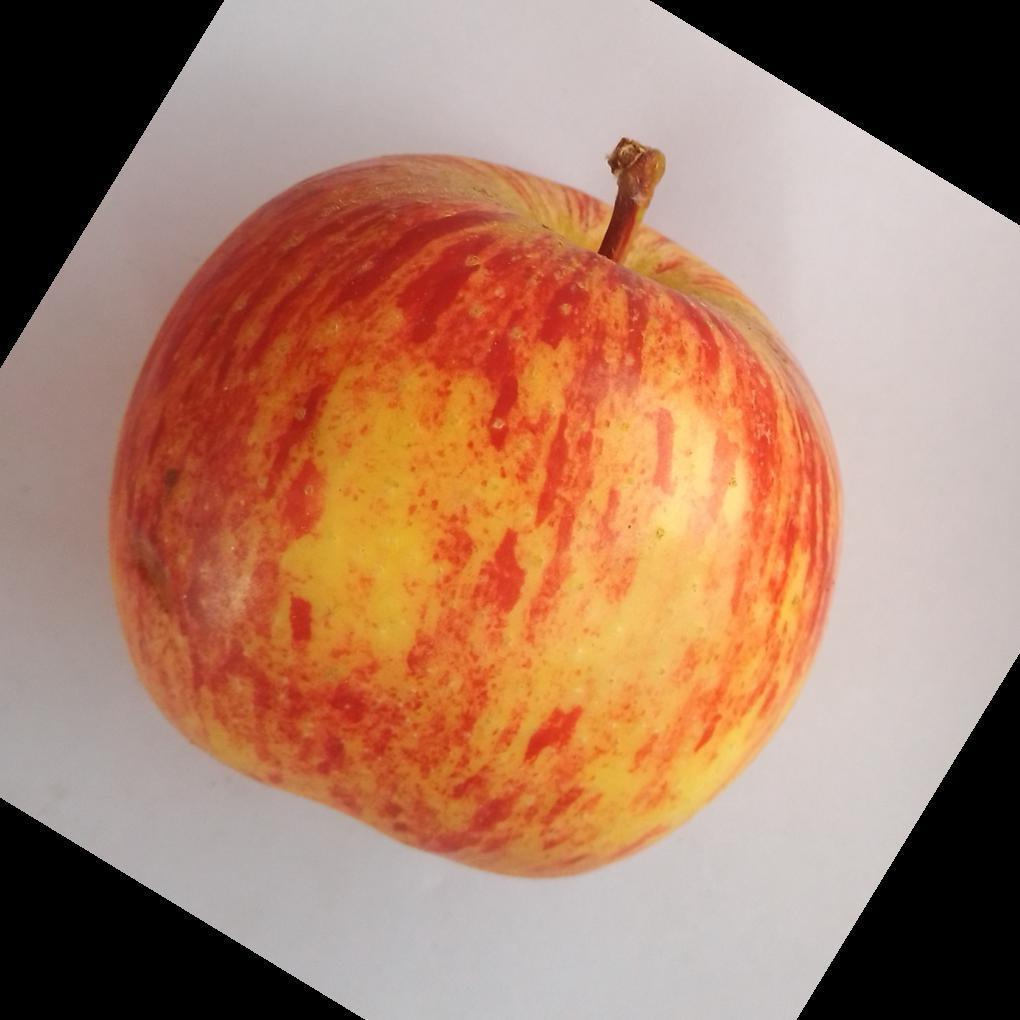FreshGuava: (103, 139, 844, 885)
